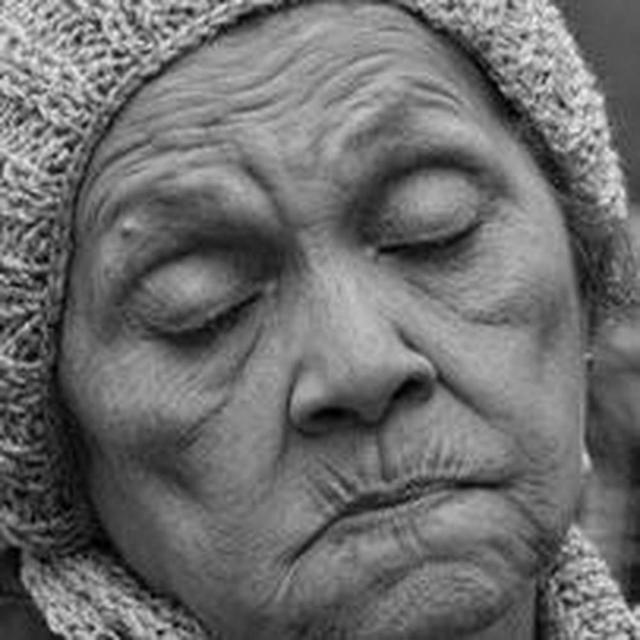real: (56, 57, 587, 640), (94, 116, 498, 350)
